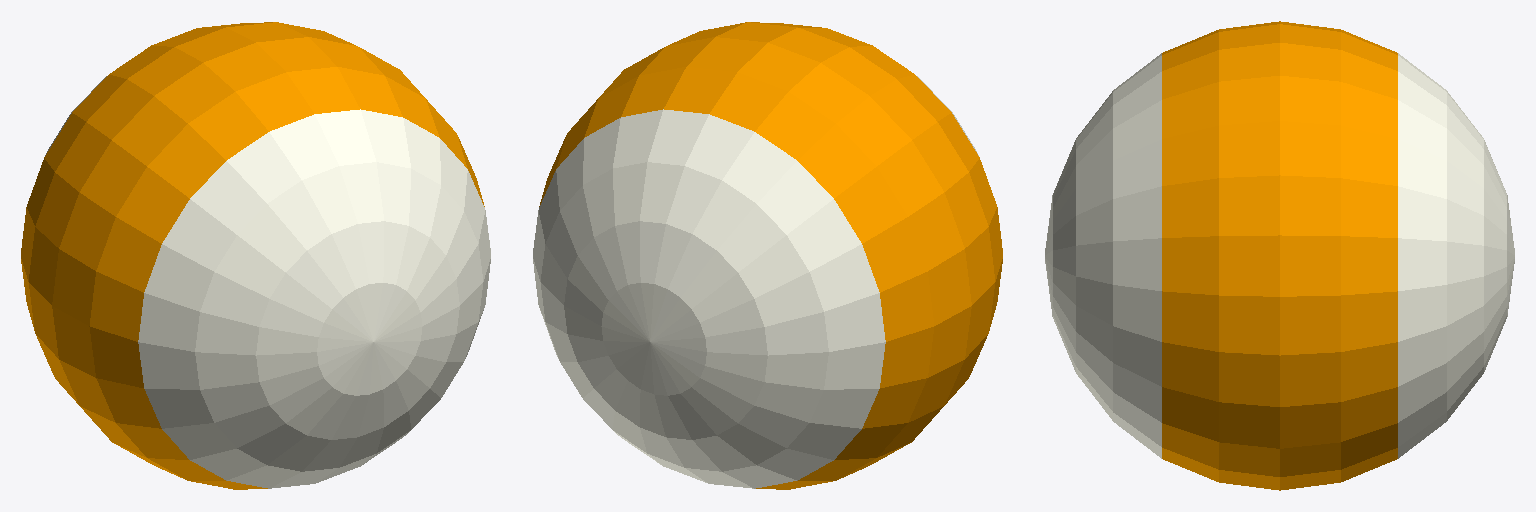
3 renders of one model, left to right at view 1: azimuth 30°, elevation 25°; view 2: azimuth 150°, elevation 25°; view 3: azimuth 270°, elevation 25°, orthographic.
Parts seen in each view (by area): view 1: Mesh02_1, band1_3, top__13_1_9; view 2: Mesh01_0, band1_3, top__13_1_9; view 3: band1_3, Mesh01_0, Mesh02_1, top__13_1_9.
Part boxes in pixels (bbox=[...]): Mesh02_1: bbox=[138, 109, 490, 488]; band1_3: bbox=[21, 23, 484, 488]; top__13_1_9: bbox=[156, 22, 355, 107]; Mesh01_0: bbox=[533, 109, 885, 488]; band1_3: bbox=[539, 23, 1002, 488]; top__13_1_9: bbox=[668, 22, 867, 107]; band1_3: bbox=[1162, 21, 1397, 490]; Mesh01_0: bbox=[1398, 53, 1514, 458]; Mesh02_1: bbox=[1045, 53, 1161, 458]; top__13_1_9: bbox=[1180, 22, 1379, 107].
Size of the model in its own units: 2.25 by 2.25 by 2.25.